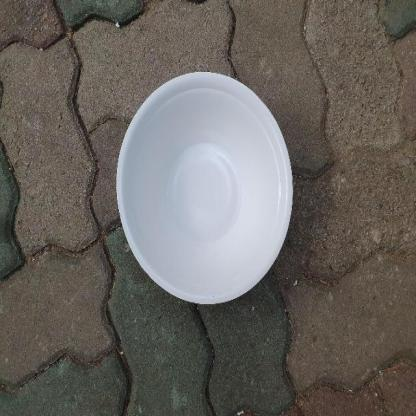Glass Cup: (117, 72, 294, 306), (117, 72, 292, 304)
